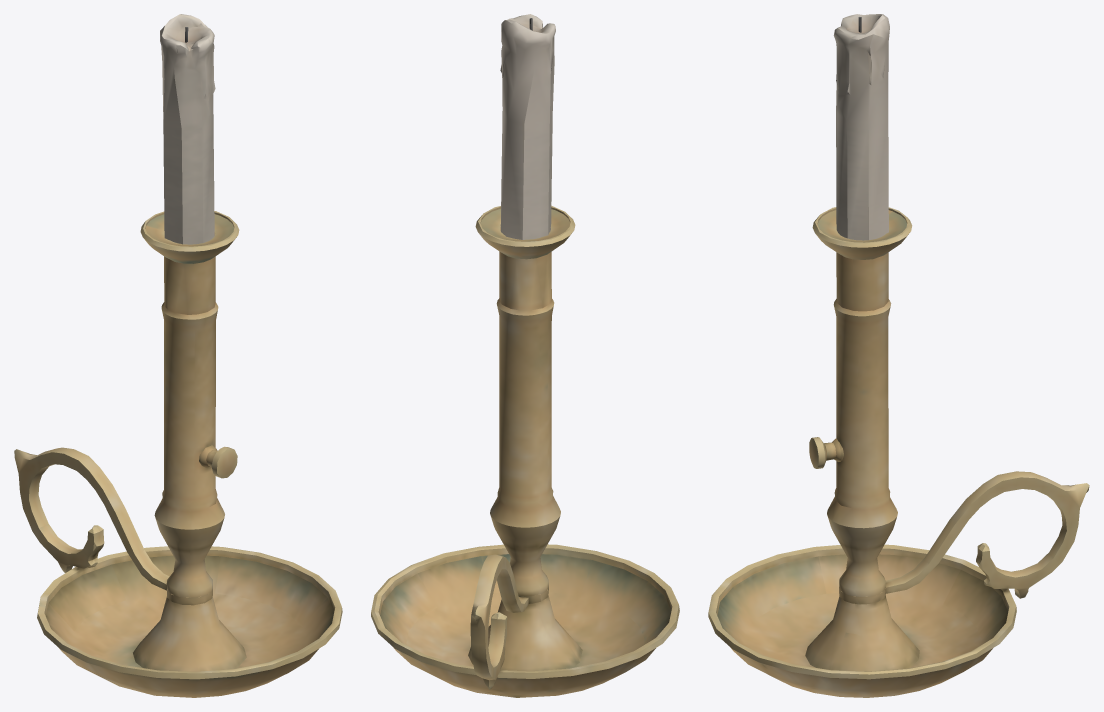
File: candlestick-brass-f.glb
The picture shows the model from 3 angles, left to right: view 1: azimuth 30°, elevation 25°; view 2: azimuth 150°, elevation 25°; view 3: azimuth 270°, elevation 25°; orthographic projection.
Visible parts, largest first — view 1: candlestick-brass-f; view 2: candlestick-brass-f; view 3: candlestick-brass-f.
Boxes of the visible parts, bbox=[...] form: candlestick-brass-f: bbox=[14, 14, 342, 697]; candlestick-brass-f: bbox=[371, 14, 679, 697]; candlestick-brass-f: bbox=[708, 14, 1089, 697].
Bounding box in the file's own units: 0.124 × 0.2873 × 0.1532.
1 material, 1 textured.
